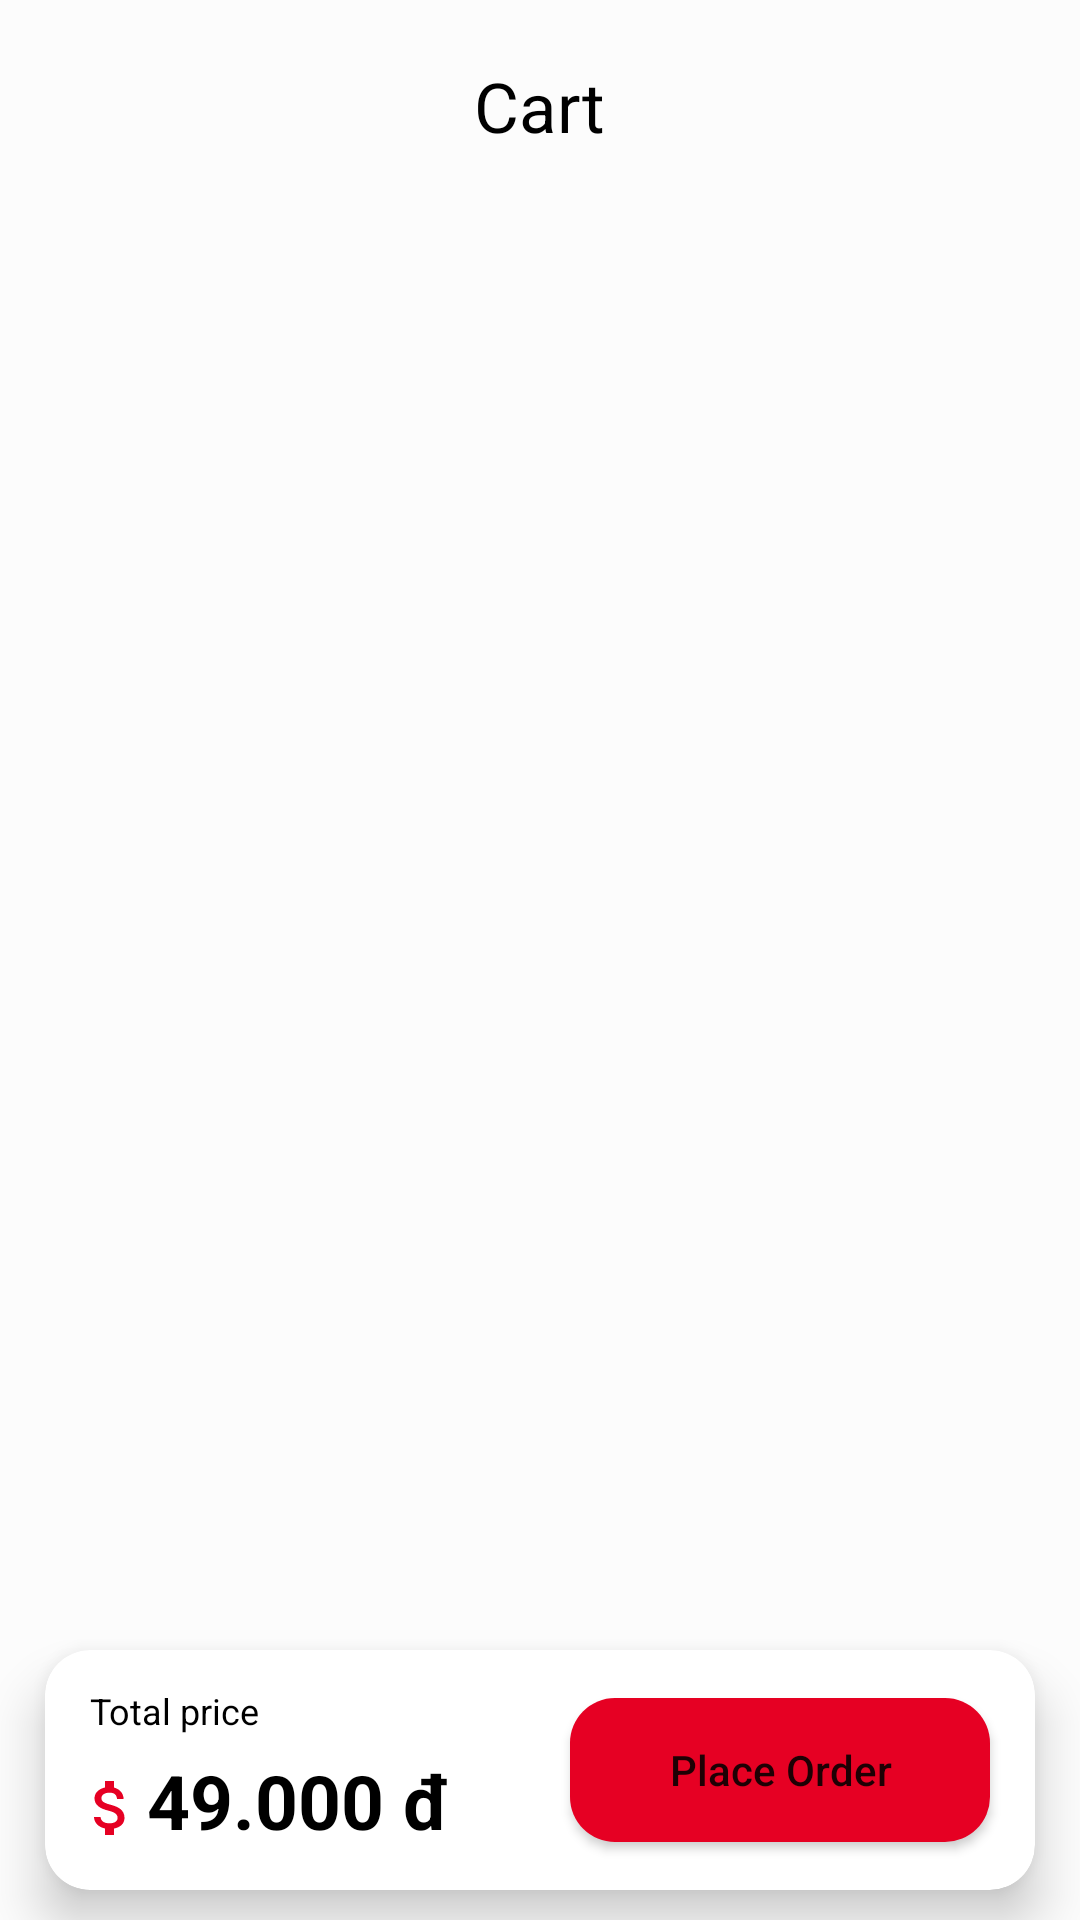

Icons on this 1080×1920 Android screen, each with its box as (x1, y1, x2, y2):
money: (94, 1781, 125, 1835)
